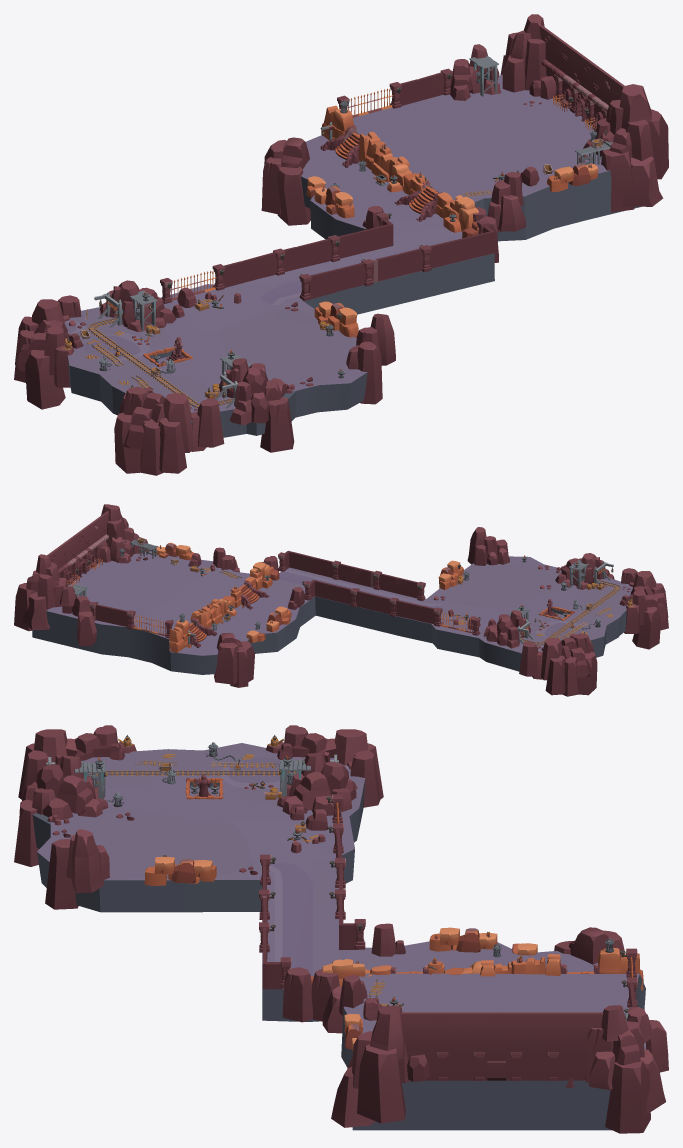
File: Level 1.fbx
3 views of the same model, one above another, from view 1: azimuth 30°, elevation 25°; view 2: azimuth 150°, elevation 25°; view 3: azimuth 270°, elevation 25° (orthographic). The views are drawn at different scales.
Parts seen in each view (by area): view 1: Plane.009, Circle.158, Circle.087, Circle.004, Cube.252, Circle.170, Circle.061, Circle.086, Cube.439, Cube.437, Circle.183, Cube.434 (+12 smaller); view 2: Plane.009, Circle.158, Circle.004, Cube.252, Circle.087, Circle.170, Circle.061, Cube.437, Cube.439, Circle.024, Cube.434, Cube.438 (+12 smaller); view 3: Plane.009, Cube.252, Circle.158, Circle.087, Circle.170, Circle.061, Circle.180, Circle.027, Cube.453, Circle.065, Circle.086, Circle.004 (+14 smaller).
Boxes of the visible parts, x1,y1,x2,y2 form: Plane.009: (64, 74, 641, 437); Circle.158: (14, 295, 224, 475); Circle.087: (215, 349, 294, 452); Circle.004: (261, 137, 310, 225); Cube.252: (539, 25, 624, 126); Circle.170: (94, 280, 176, 332); Circle.061: (346, 313, 395, 404); Circle.086: (487, 172, 526, 232); Cube.439: (309, 259, 377, 298); Cube.437: (435, 226, 494, 267); Circle.183: (622, 156, 663, 206); Cube.434: (338, 219, 393, 258); Plane.009: (32, 549, 632, 674); Circle.158: (519, 568, 668, 696); Circle.004: (214, 632, 254, 687); Cube.252: (47, 511, 108, 584); Circle.087: (555, 553, 614, 589); Circle.170: (483, 604, 534, 648); Circle.061: (467, 527, 509, 565); Cube.437: (285, 550, 329, 576); Cube.439: (370, 571, 418, 598); Circle.024: (22, 592, 49, 629); Cube.434: (310, 580, 352, 604); Cube.438: (328, 561, 371, 587); Plane.009: (32, 743, 645, 1130); Cube.252: (401, 1012, 603, 1080); Circle.158: (18, 725, 383, 807); Circle.087: (14, 754, 108, 866); Circle.170: (277, 752, 357, 815); Circle.061: (45, 829, 109, 909); Circle.180: (357, 1044, 405, 1123); Circle.027: (605, 1059, 650, 1133); Cube.453: (144, 855, 216, 885); Circle.065: (282, 967, 312, 1022); Circle.086: (322, 975, 367, 1033); Circle.004: (554, 927, 625, 964).
Size of the model in its own units: 34.8 by 6.63 by 25.25.
